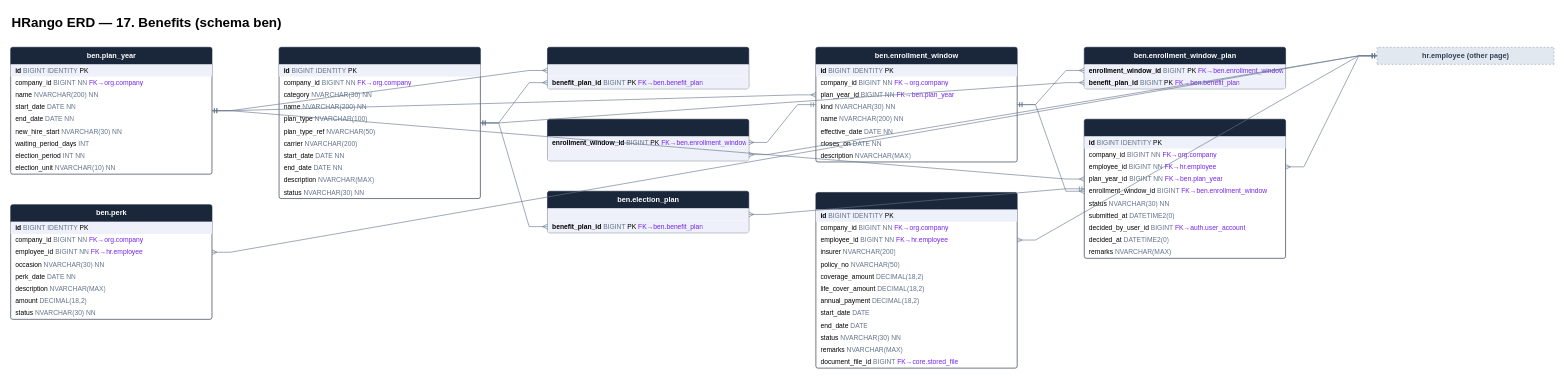
Image size: 1565x379. Some labels were removed from this diagram. Here are the shapes that lost their labels. From the top down, the box of each, then its label:
(547, 64, 748, 76): plan_year_id BIGINT PK FK→ben.plan_year
(547, 47, 749, 89): ben.plan_year_plan
(278, 47, 480, 199): ben.benefit_plan
(547, 119, 749, 161): ben.enrollment_window_employee
(547, 148, 748, 160): employee_id BIGINT PK FK→hr.employee
(1084, 119, 1286, 258): ben.election
(547, 208, 748, 220): election_id BIGINT PK FK→ben.election
(815, 192, 1017, 368): ben.health_benefit
